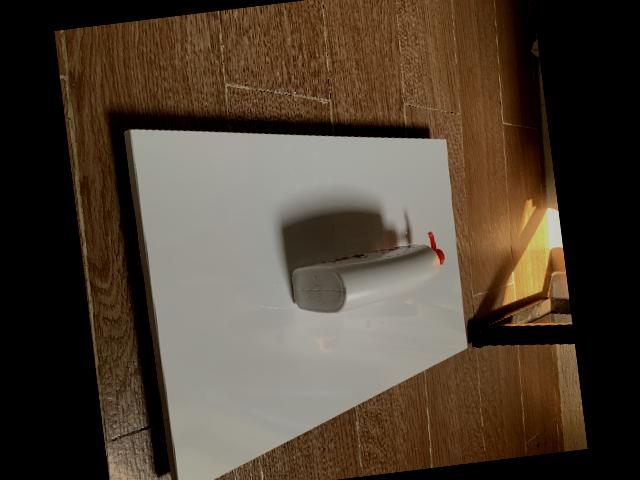life-buoy: (289, 232, 442, 316)
